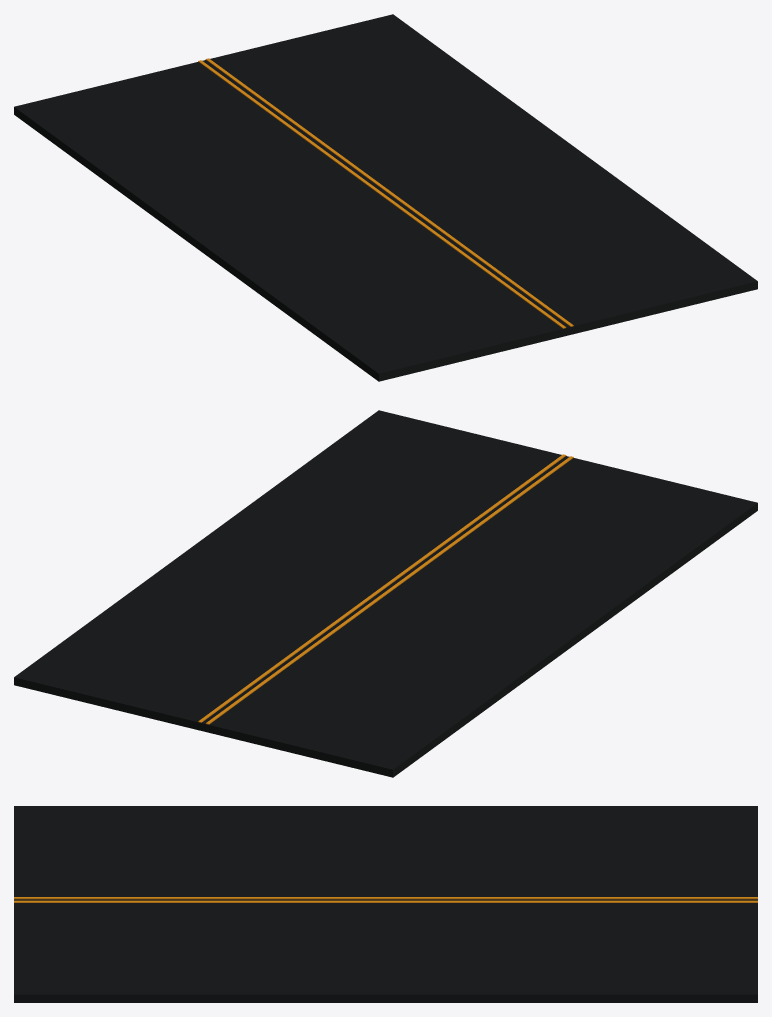
Rendered from street_20m.obj.
3 renders of one model, top to bottom at view 1: azimuth 30°, elevation 25°; view 2: azimuth 150°, elevation 25°; view 3: azimuth 270°, elevation 25°, orthographic.
Visible parts, largest first — view 1: Asphalt, Yellow_Paint; view 2: Asphalt, Yellow_Paint; view 3: Asphalt, Yellow_Paint.
Boxes of the visible parts, left/top/right/bottom form: Asphalt: left=14, top=14, right=757, bottom=381; Yellow_Paint: left=198, top=58, right=573, bottom=328; Asphalt: left=14, top=410, right=757, bottom=777; Yellow_Paint: left=198, top=454, right=573, bottom=724; Asphalt: left=14, top=806, right=757, bottom=1002; Yellow_Paint: left=14, top=897, right=757, bottom=902.
Size of the model in its own units: 12 by 0.2665 by 20.
